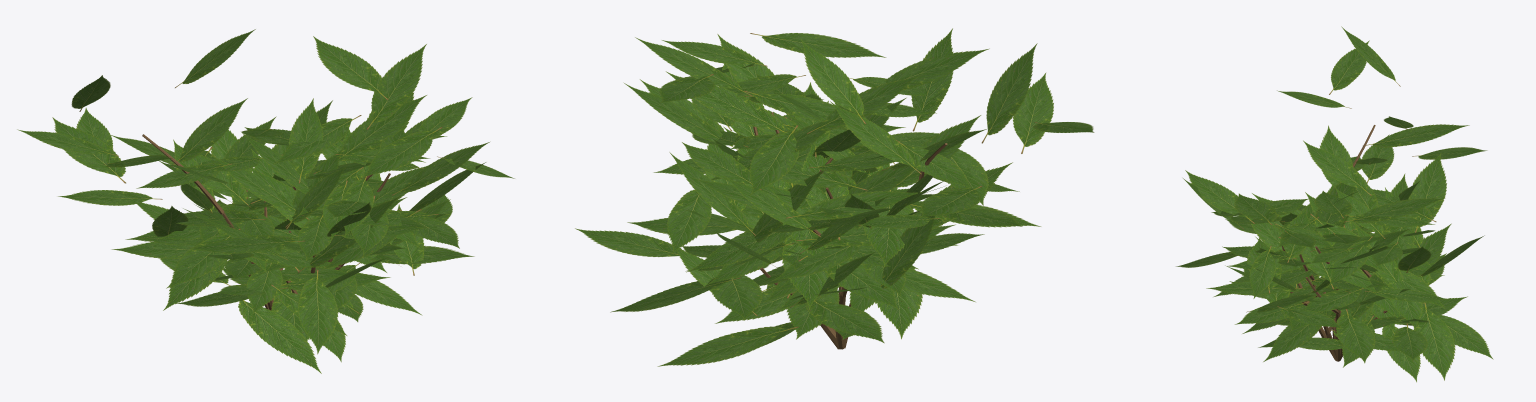
Rendered from shrub_hazel.glb.
3 views of the same model, side by side, from view 1: azimuth 30°, elevation 25°; view 2: azimuth 150°, elevation 25°; view 3: azimuth 270°, elevation 25° (orthographic). The views are drawn at different scales.
Visible parts, largest first — view 1: Dense broad leaves, Shrub branches; view 2: Dense broad leaves, Shrub branches; view 3: Dense broad leaves, Shrub branches.
Boxes of the visible parts, x1=… form: Dense broad leaves: x1=17, y1=29, x2=514, y2=373; Shrub branches: x1=142, y1=134, x2=390, y2=310; Dense broad leaves: x1=575, y1=28, x2=1094, y2=366; Shrub branches: x1=753, y1=112, x2=947, y2=349; Dense broad leaves: x1=1176, y1=26, x2=1493, y2=382; Shrub branches: x1=1282, y1=125, x2=1387, y2=361.
Bounding box in the file's own units: 3.65 × 2.43 × 3.03.
2 materials, 1 textured.
